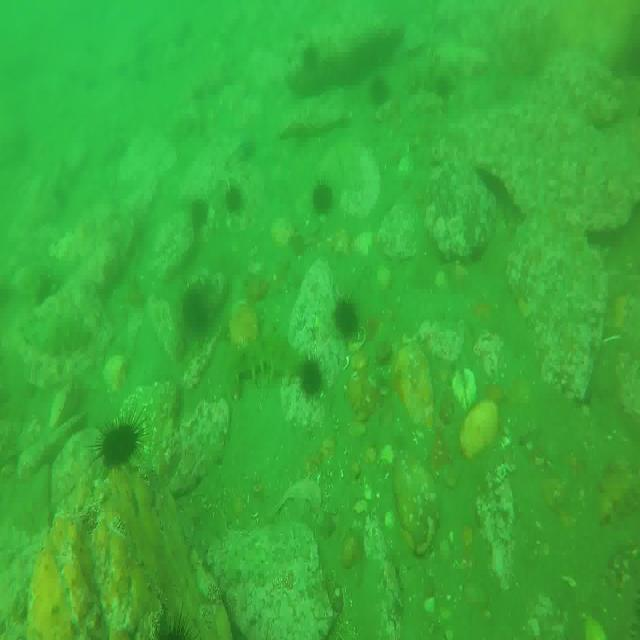echinus: (94, 419, 140, 466), (182, 287, 211, 335), (336, 291, 360, 340), (301, 355, 324, 399), (300, 48, 324, 76), (188, 198, 209, 230), (226, 175, 244, 212), (369, 75, 391, 105), (310, 182, 331, 213)
holothurian: (238, 339, 302, 383)
